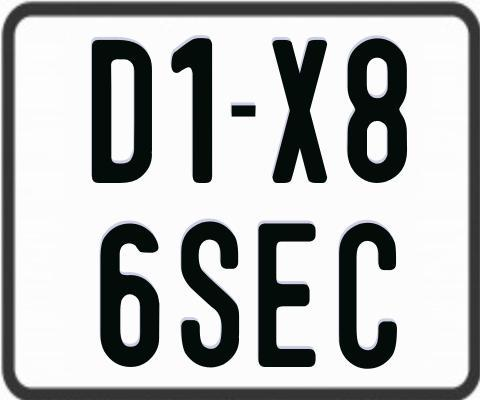1: (171, 37, 217, 187)
6: (100, 220, 160, 365)
8: (344, 35, 406, 181)
C: (336, 222, 394, 369)
D: (92, 37, 154, 183)
E: (255, 222, 318, 368)
S: (181, 219, 239, 367)
X: (269, 37, 325, 180)
